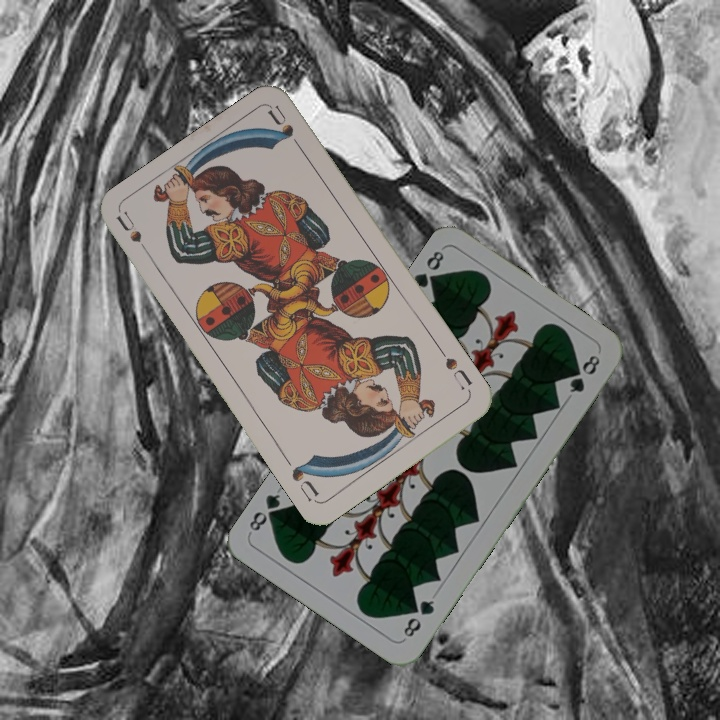G8: (409, 246, 447, 293), (399, 596, 437, 640)
SU: (113, 208, 156, 263), (434, 344, 475, 392)
